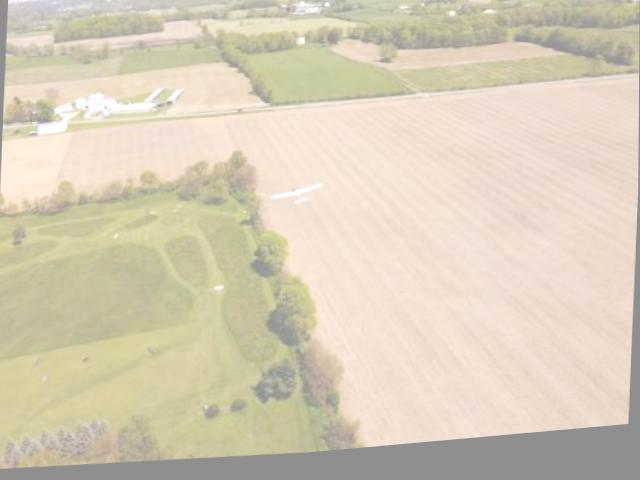uav: (264, 174, 333, 221)
